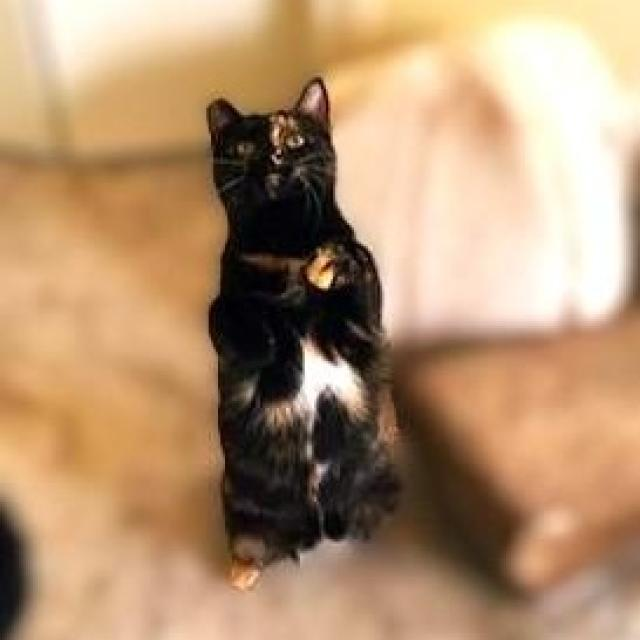calico_cat: (183, 68, 356, 250)
